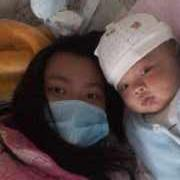NONE: (117, 61, 169, 114)
OK: (40, 75, 108, 143)
